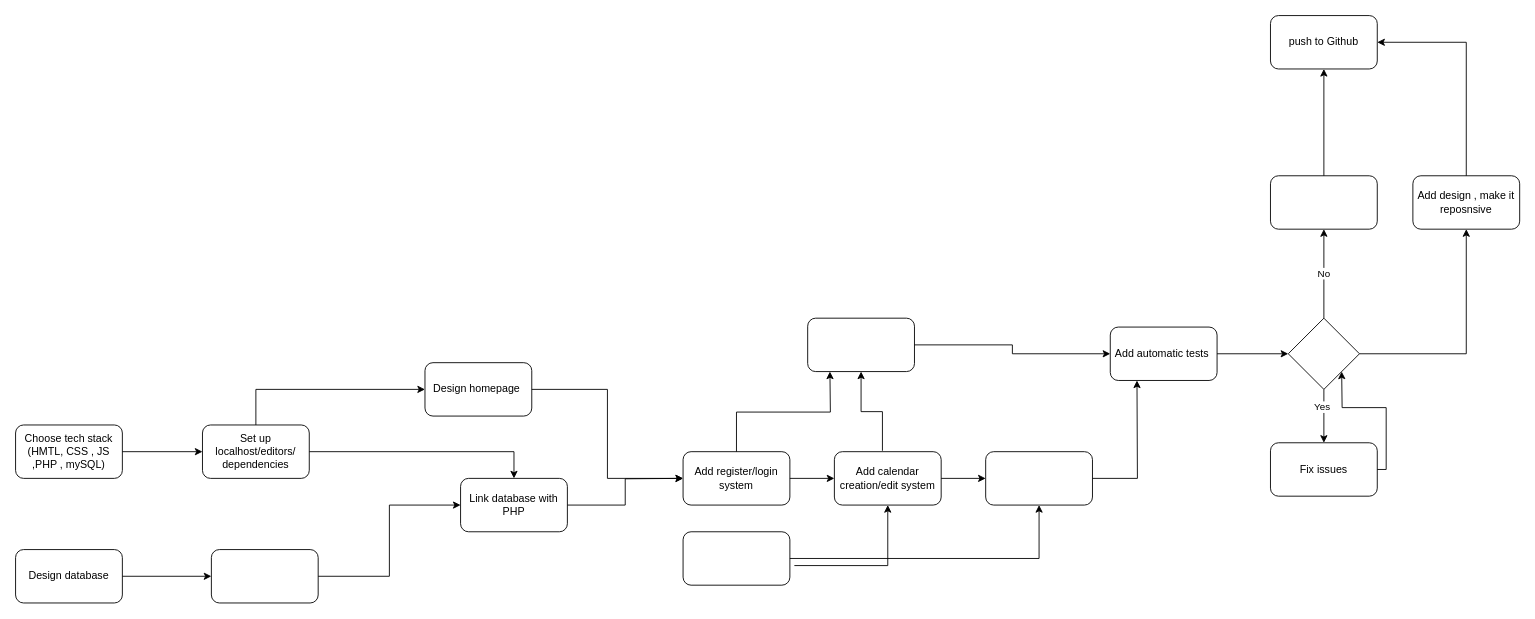
Image size: 1535x619. Some labels were removed from this diagram. The centre of each missing label's shape, as x and y in pixels:
".Bugs/Issues" goes at [1323,353].
"Add event handling" goes at [1038,478].
"Add frienship requests and calendar/friendship handling by multiple users" goes at [860,344].
"code refactoring , comments , modularization" goes at [1323,202].
"Create database" goes at [264,576].
"Fix small bugs and small redesigning to the database" goes at [736,558].
